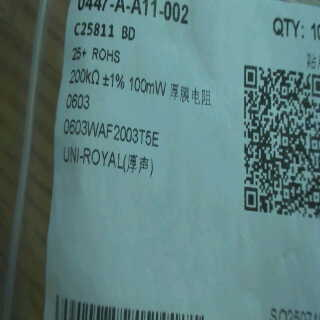200kR: (65, 64, 104, 87)
